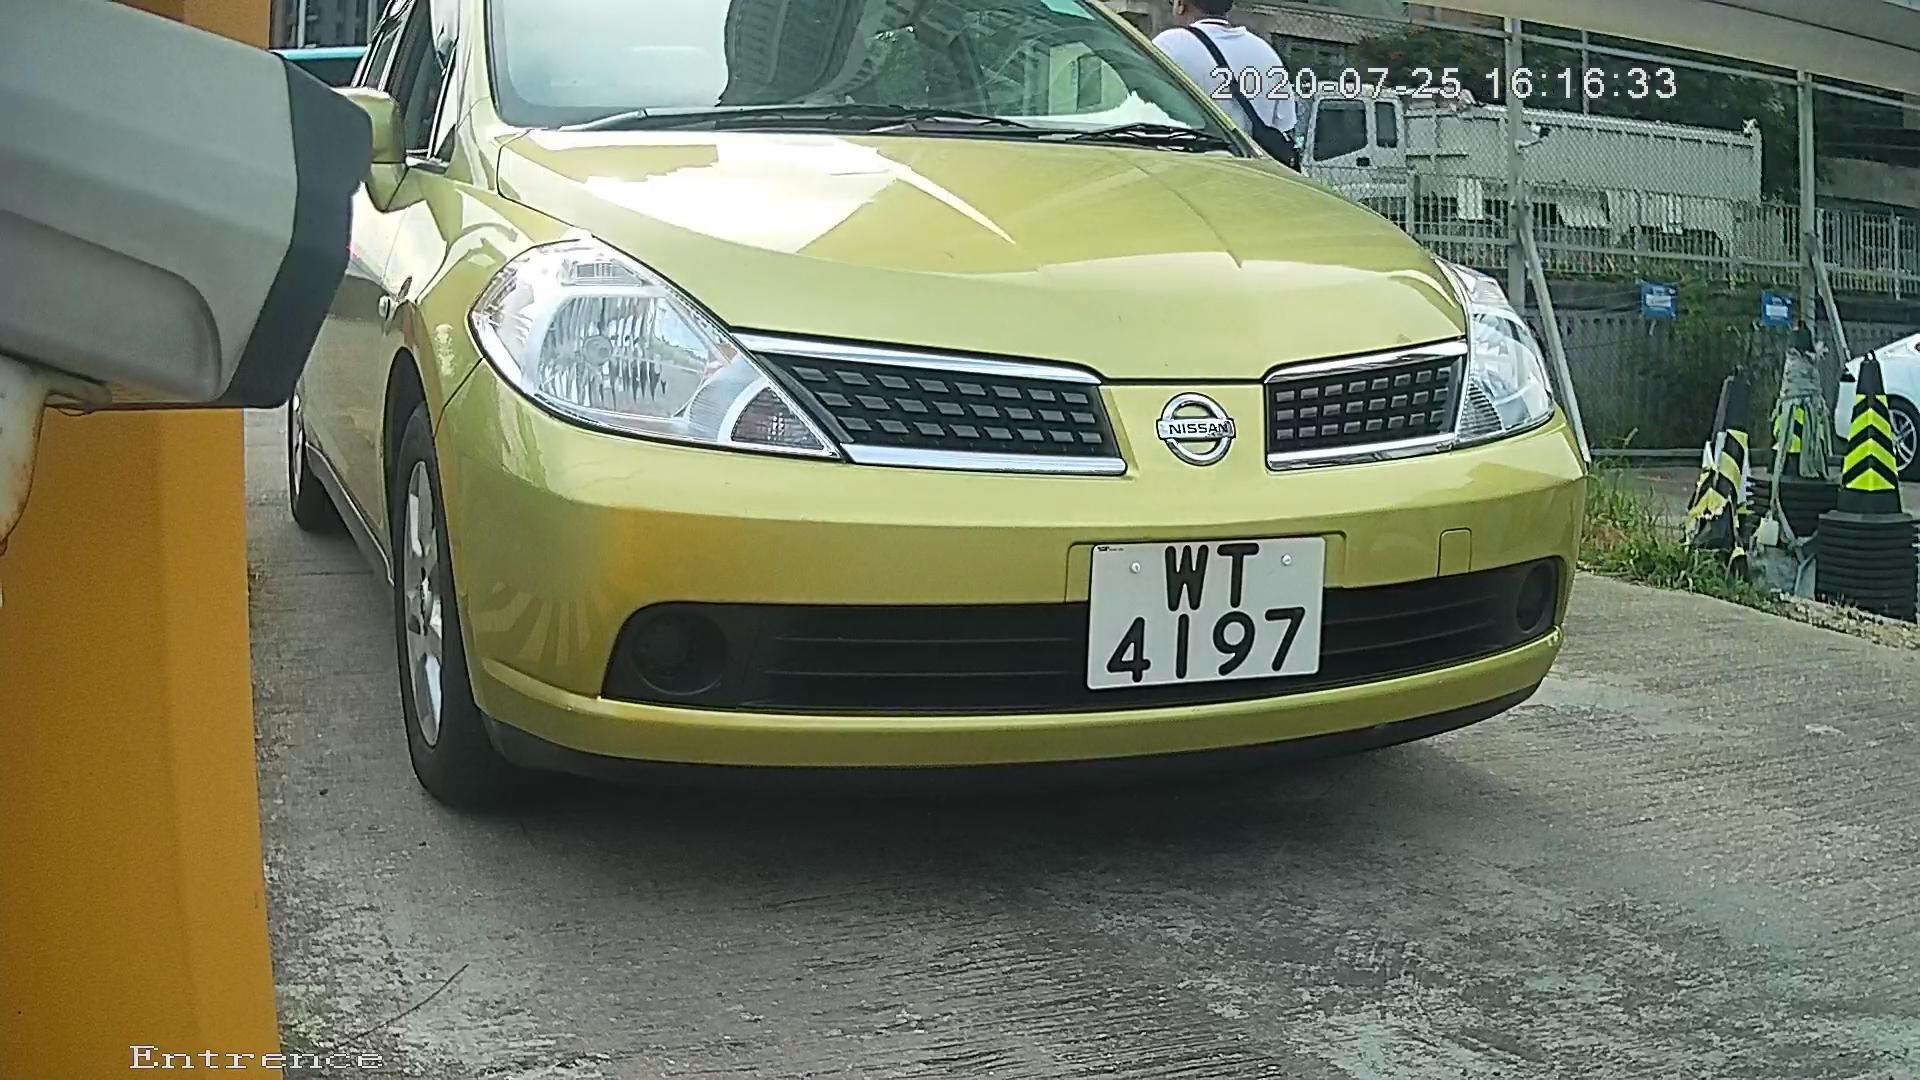License Plate: (1055, 521, 1355, 714)
